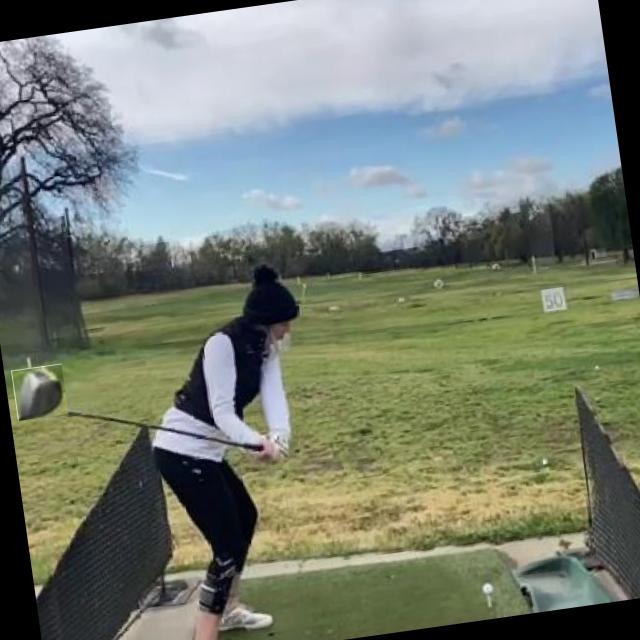club head: (11, 363, 69, 421)
